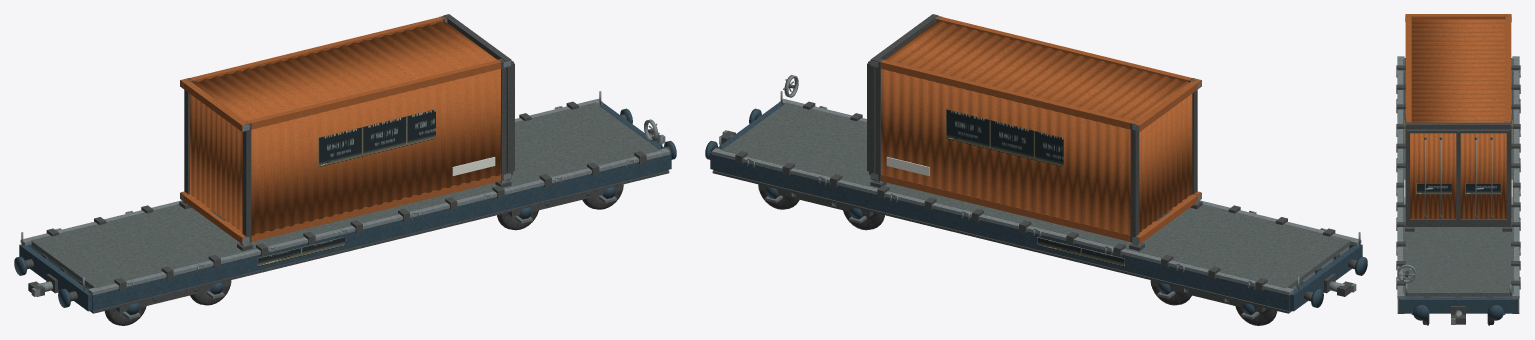
File: PROJECT_Z_FreightWagon_Container_Master.glb
The picture shows the model from 3 angles, left to right: view 1: azimuth 30°, elevation 25°; view 2: azimuth 150°, elevation 25°; view 3: azimuth 270°, elevation 25°; orthographic projection. The views are drawn at different scales.
Visible parts, largest first — view 1: CTR_L_FoldedSideWall, WGN_MainDeckSlab, CTR_CorrugatedRoofSheet, WGN_L_SideSill, CTR_ClosedFrontCorrugatedEnd, CTR_L_CompanyLogo, WGN_L_SillFlangeTop, CTR_L_UpperRail, WGN_L_SillFlangeBottom, CTR_L_LowerRail, CTR_R_UpperRail, WGN_A_EndBeam (+11 smaller); view 2: CTR_R_FoldedSideWall, WGN_MainDeckSlab, CTR_CorrugatedRoofSheet, WGN_R_SideSill, CTR_ClosedFrontCorrugatedEnd, CTR_R_CompanyLogo, WGN_R_SillFlangeTop, CTR_R_UpperRail, WGN_R_SillFlangeBottom, CTR_R_LowerRail, CTR_L_UpperRail, WGN_A_EndBeam (+11 smaller); view 3: CTR_CorrugatedRoofSheet, WGN_MainDeckSlab, CTR_Rear_LEFT_CorrugatedLeaf, CTR_Rear_RIGHT_CorrugatedLeaf, WGN_B_EndBeam, WGN_R_SillFlangeTop, WGN_L_SillFlangeTop, CTR_RearTopHeader, CTR_R_UpperRail, CTR_L_UpperRail, CTR_FrontTopCrossbar, CTR_RearSill (+22 smaller).
Part boxes in pixels (x1,y1,x2,y2): CTR_L_FoldedSideWall: (251,69,500,235); WGN_MainDeckSlab: (31,102,659,288); CTR_CorrugatedRoofSheet: (193,21,497,120); WGN_L_SideSill: (91,155,668,312); CTR_ClosedFrontCorrugatedEnd: (190,94,242,232); CTR_L_CompanyLogo: (318,109,435,167); WGN_L_SillFlangeTop: (88,148,670,295); CTR_L_UpperRail: (240,59,501,129); WGN_L_SillFlangeBottom: (90,170,669,313); CTR_L_LowerRail: (239,173,507,241); CTR_R_UpperRail: (181,16,446,82); WGN_A_EndBeam: (19,244,91,311); CTR_R_FoldedSideWall: (881,69,1130,235); WGN_MainDeckSlab: (722,102,1350,288); CTR_CorrugatedRoofSheet: (884,21,1188,120); WGN_R_SideSill: (713,155,1289,310); CTR_ClosedFrontCorrugatedEnd: (1139,94,1192,232); CTR_R_CompanyLogo: (946,109,1063,167); WGN_R_SillFlangeTop: (711,148,1293,295); CTR_R_UpperRail: (880,60,1141,129); WGN_R_SillFlangeBottom: (712,170,1291,313); CTR_R_LowerRail: (874,173,1142,241); CTR_L_UpperRail: (935,16,1198,82); WGN_A_EndBeam: (1290,244,1362,311); CTR_CorrugatedRoofSheet: (1411,19,1505,122); WGN_MainDeckSlab: (1403,59,1513,296); CTR_Rear_LEFT_CorrugatedLeaf: (1410,133,1456,218); CTR_Rear_RIGHT_CorrugatedLeaf: (1460,133,1506,218); WGN_B_EndBeam: (1400,297,1516,313); WGN_R_SillFlangeTop: (1512,56,1519,298); WGN_L_SillFlangeTop: (1397,56,1404,298); CTR_RearTopHeader: (1405,122,1511,129); CTR_R_UpperRail: (1505,14,1510,122); CTR_L_UpperRail: (1406,14,1411,122); CTR_FrontTopCrossbar: (1405,14,1511,19); CTR_RearSill: (1405,223,1511,226).
Size of the model in its own units: 14.28 by 3.98 by 2.87.
Materials: 9 (7 with a texture image).
